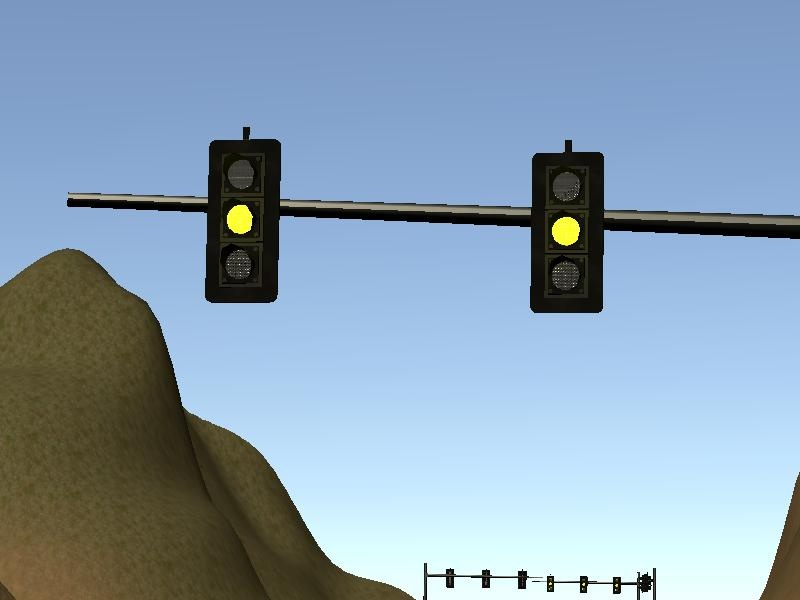YELLOW: (201, 132, 283, 306), (529, 151, 605, 315)
